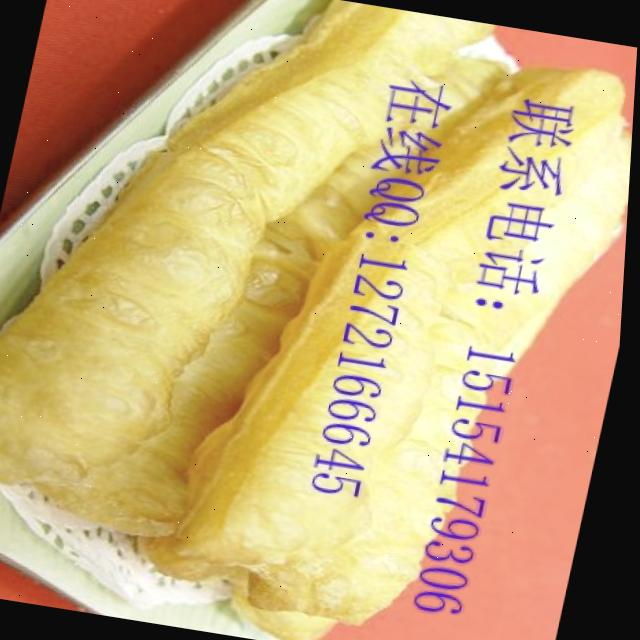炸货点心: (2, 0, 640, 610)
